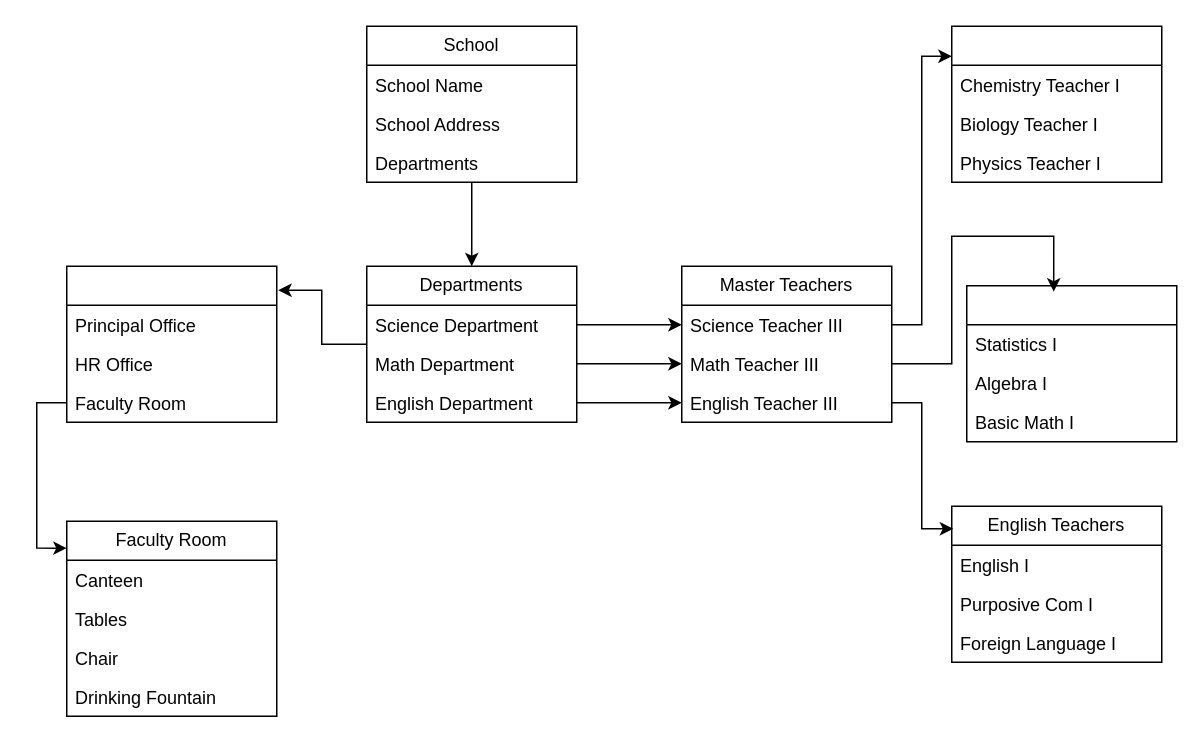
Image size: 1203x747. Some labels were removed from this diagram. Each missing label, with the box of its shape:
Math Teachers: (965, 284, 1177, 442)
Offices: (65, 265, 277, 422)
Science Teachers: (950, 25, 1162, 182)
